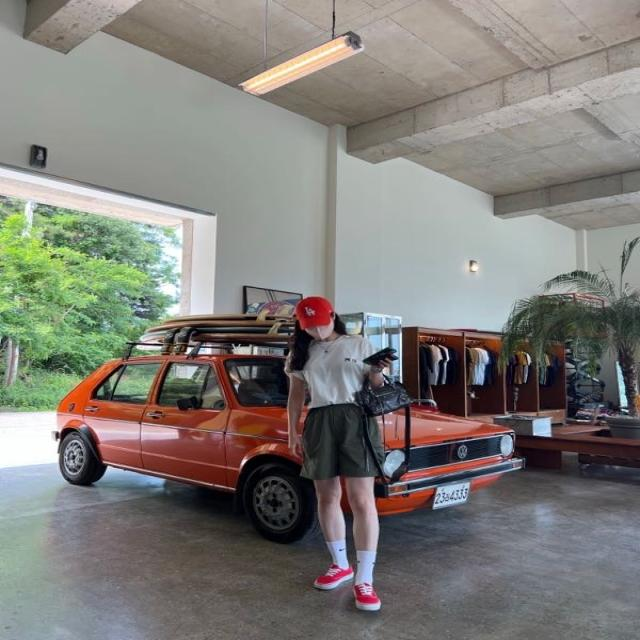shortpants: (300, 406, 380, 479)
shortsleeve: (284, 334, 369, 410)
